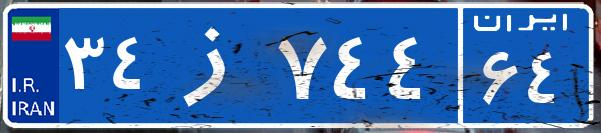3: (57, 26, 110, 107)
4: (385, 28, 445, 110), (330, 28, 385, 110), (110, 28, 158, 105), (525, 38, 570, 115)
6: (475, 38, 525, 113)
7: (273, 28, 330, 110)
ز: (158, 15, 273, 115)
